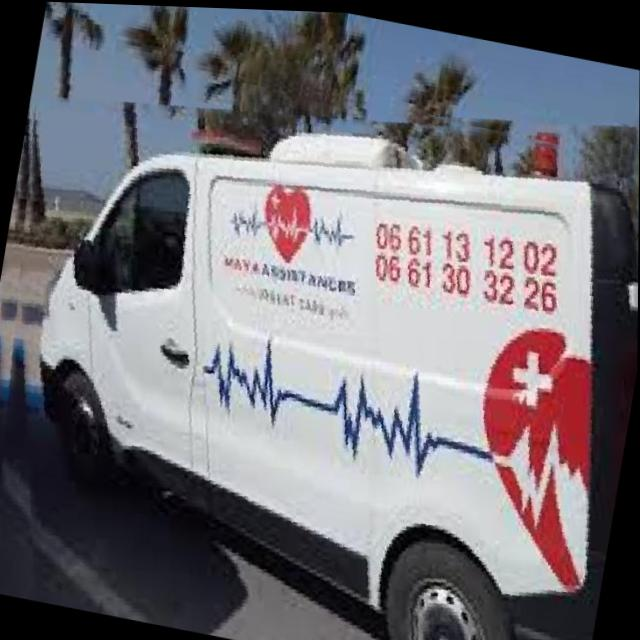ambulance: (0, 30, 640, 640)
